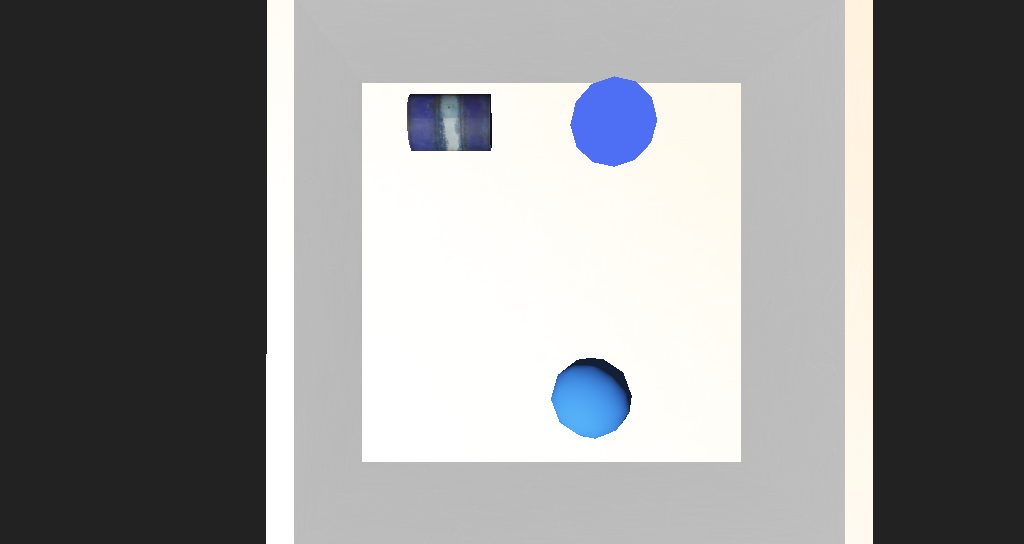cone: (391, 169, 458, 203)
cylinder: (512, 148, 579, 215)
sphere: (509, 317, 569, 360)
